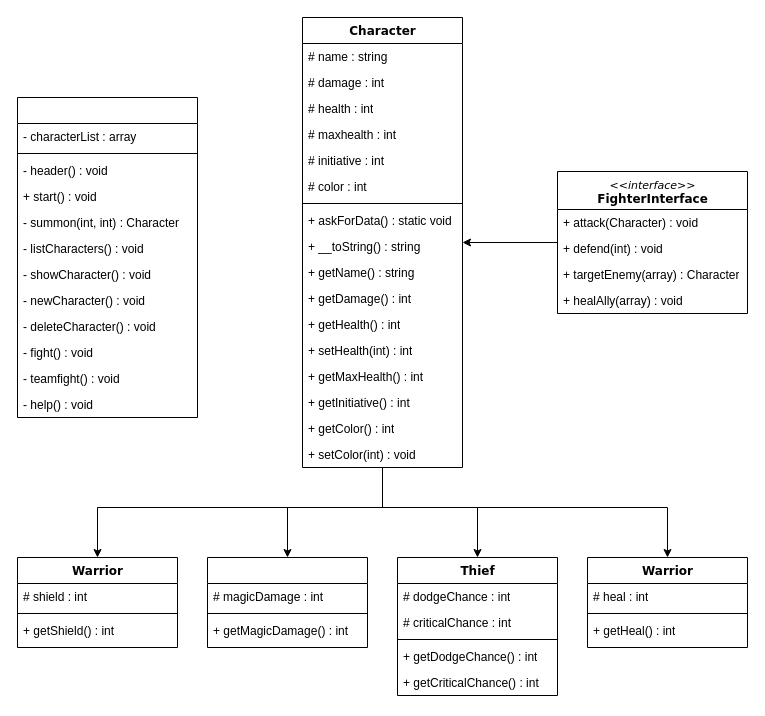
This 765x716 diagram has some shape labels left out. Each missing label, with the box of its shape:
CharManager: (16, 96, 198, 418)
Wizard: (206, 556, 368, 648)
